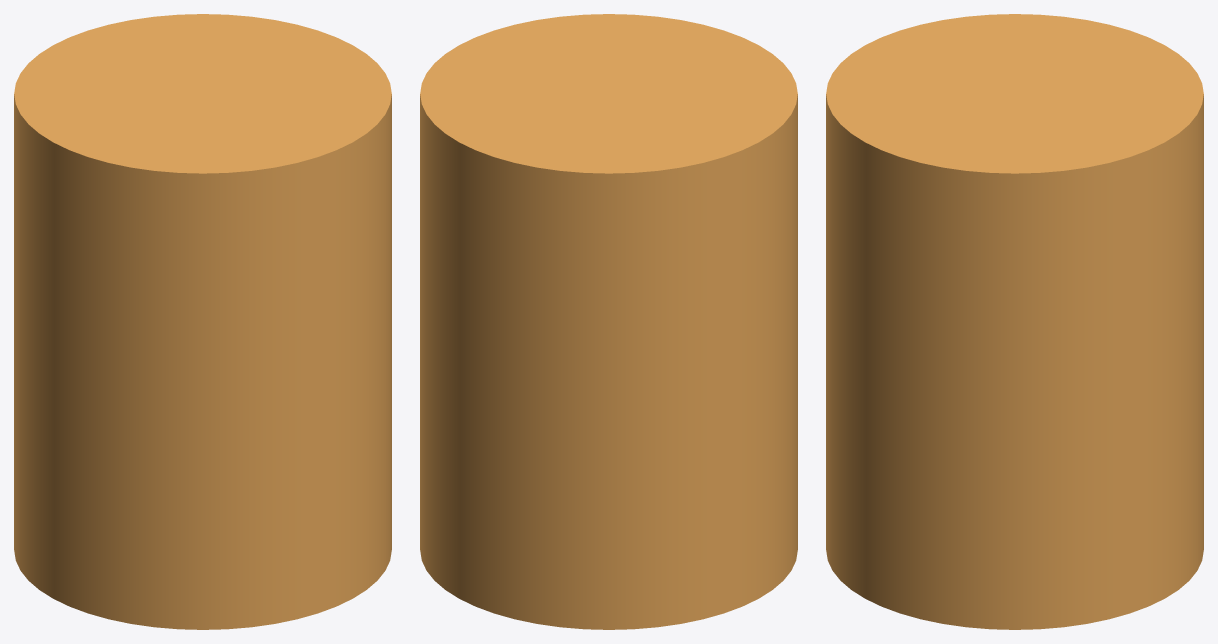
3 renders of one model, left to right at view 1: azimuth 30°, elevation 25°; view 2: azimuth 150°, elevation 25°; view 3: azimuth 270°, elevation 25°, orthographic.
Parts seen in each view (by area): view 1: demo_cylinder; view 2: demo_cylinder; view 3: demo_cylinder.
Part boxes in pixels (<box>): demo_cylinder: <box>14,14,391,629</box>; demo_cylinder: <box>420,14,797,629</box>; demo_cylinder: <box>826,14,1203,629</box>.
Size of the model in its own units: 12 by 16 by 12.
